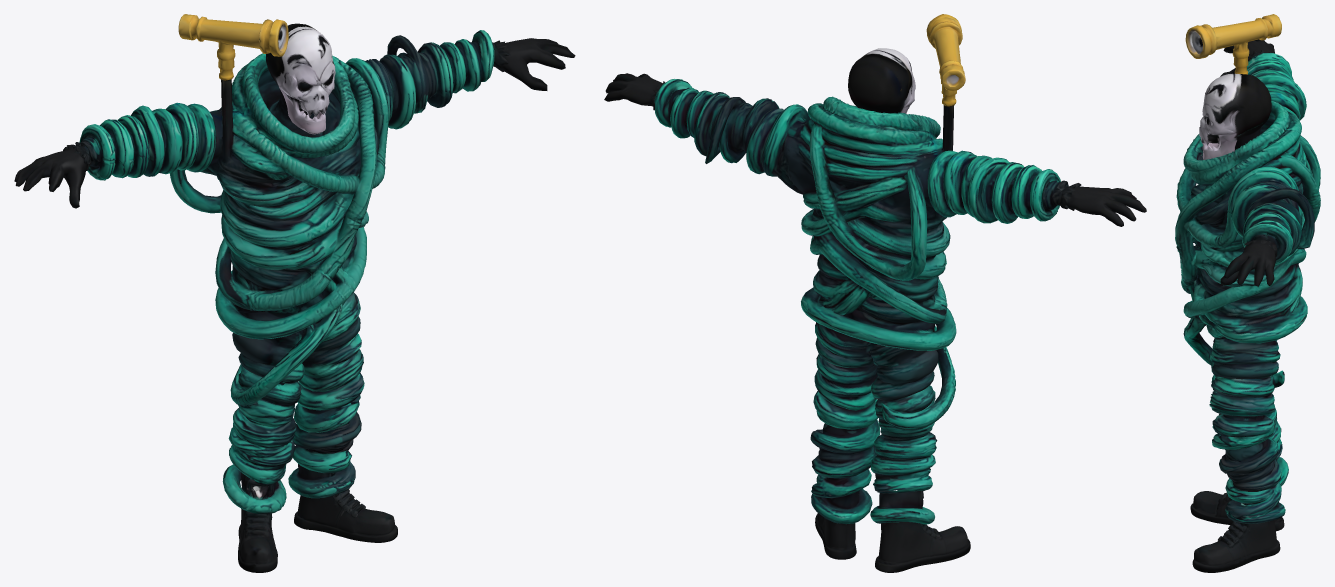
Rendered from the_sprinkler_lord.glb.
The picture shows the model from 3 angles, left to right: view 1: azimuth 30°, elevation 25°; view 2: azimuth 150°, elevation 25°; view 3: azimuth 270°, elevation 25°; orthographic projection. The views are drawn at different scales.
Parts seen in each view (by area): view 1: the_sprinkler_lord; view 2: the_sprinkler_lord; view 3: the_sprinkler_lord.
Part boxes in pixels (<box>): the_sprinkler_lord: <box>14,14,575,572</box>; the_sprinkler_lord: <box>604,14,1146,572</box>; the_sprinkler_lord: <box>1175,14,1320,572</box>.
Bounding box in the file's own units: 4.23 × 4 × 1.07.
Materials: 1 (1 with a texture image).
